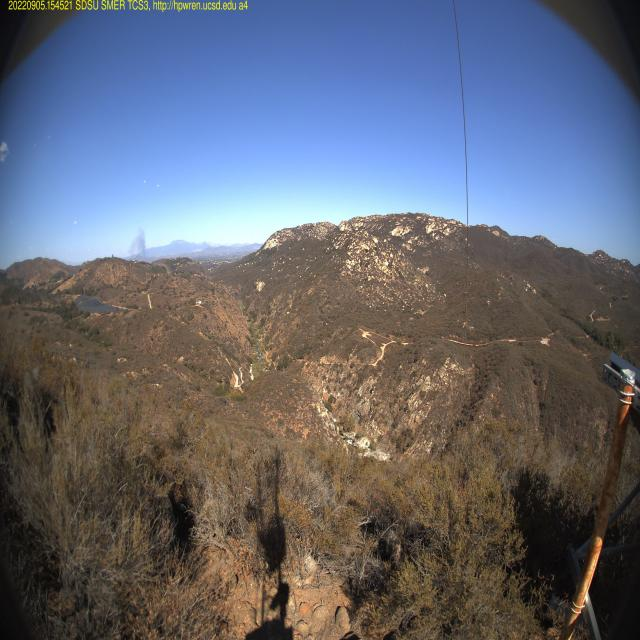smoke: (124, 223, 146, 258), (140, 238, 148, 263)
